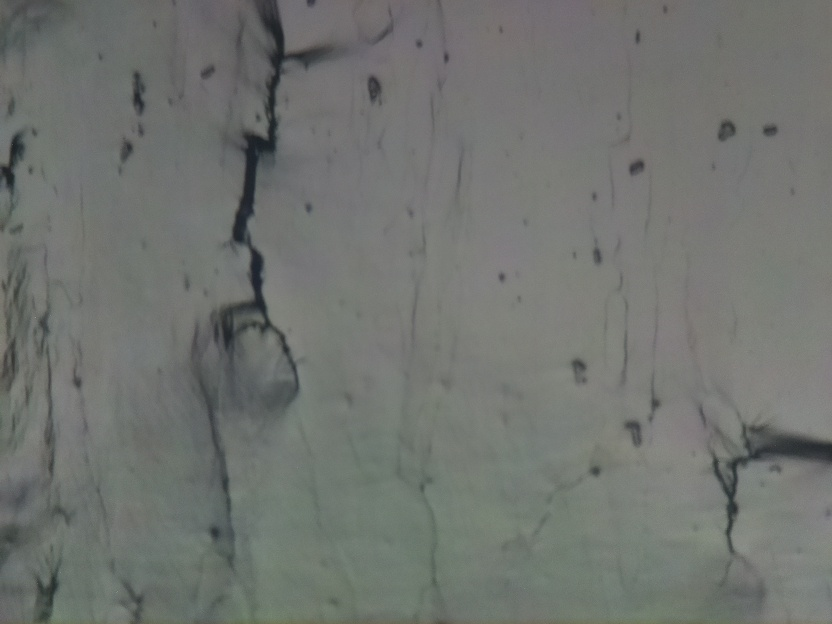crack: (212, 0, 300, 387), (186, 321, 240, 560)
